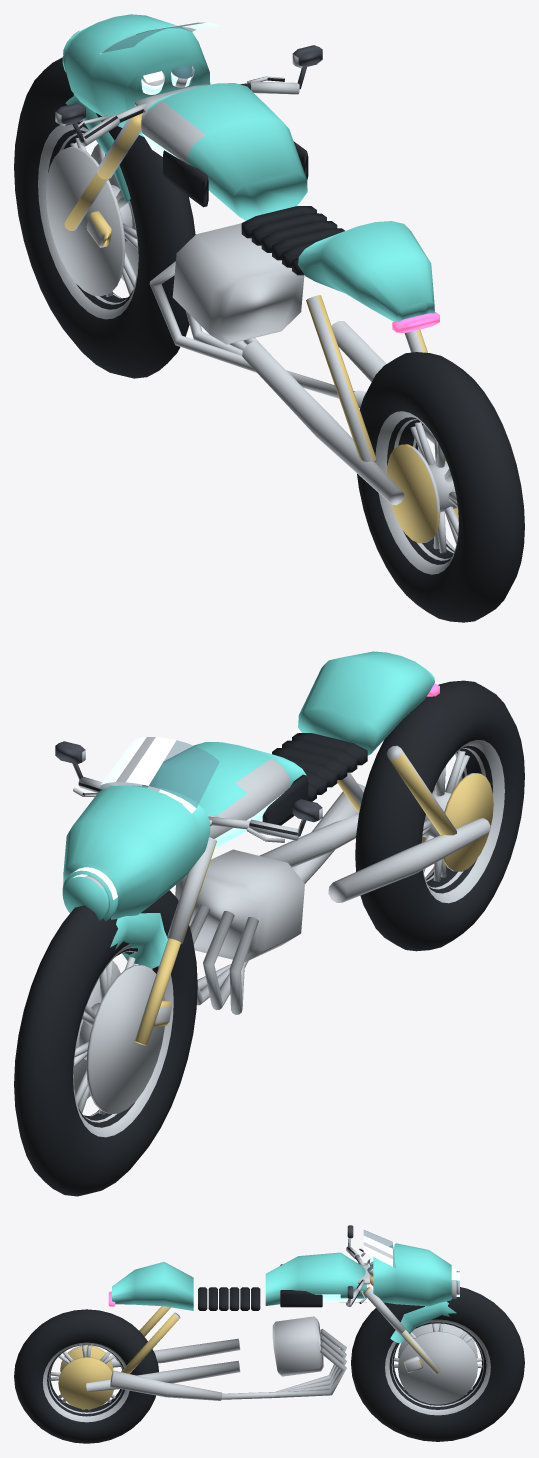
File: cafe.glb
The picture shows the model from 3 angles, top to bottom: view 1: azimuth 30°, elevation 25°; view 2: azimuth 150°, elevation 25°; view 3: azimuth 270°, elevation 25°; orthographic projection. The views are drawn at different scales.
Visible parts, largest first — view 1: chassis, rear-wheel, front-wheel, cockpit; view 2: chassis, front-wheel, rear-wheel, cockpit; view 3: chassis, front-wheel, rear-wheel, cockpit.
Part boxes in pixels (<box>): chassis: <box>62,14,439,505</box>; rear-wheel: <box>357,352,524,622</box>; front-wheel: <box>14,57,195,378</box>; cockpit: <box>55,22,322,146</box>; chassis: <box>62,651,490,1045</box>; front-wheel: <box>14,890,197,1196</box>; rear-wheel: <box>355,680,524,951</box>; cockpit: <box>55,737,322,842</box>; chassis: <box>86,1243,459,1400</box>; front-wheel: <box>351,1287,524,1441</box>; rear-wheel: <box>14,1309,158,1443</box>; cockpit: <box>346,1225,395,1306</box>.
Size of the model in its own units: 0.98 by 1.4 by 3.13.
